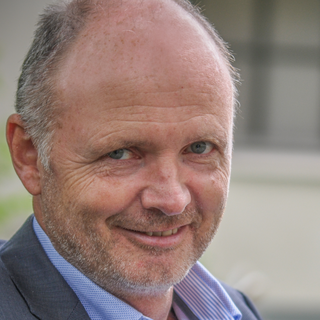eye: (94, 141, 146, 169), (177, 135, 225, 163)
